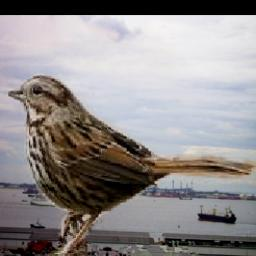Sparrow: (8, 71, 256, 256)
